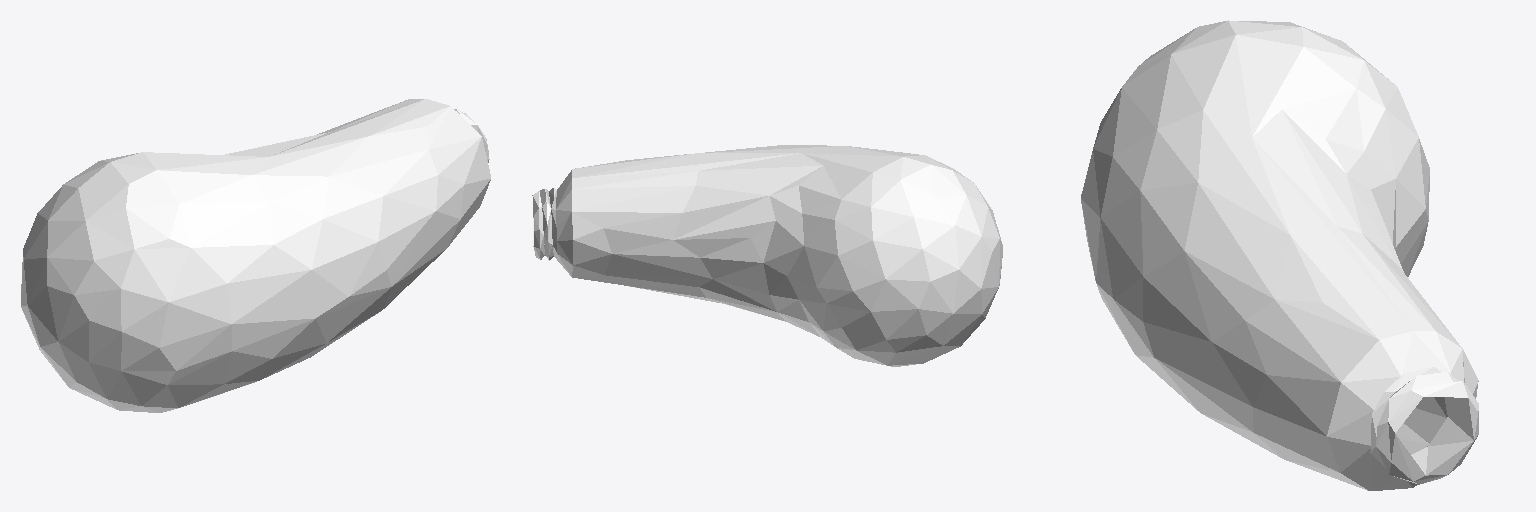
URDF robot description (cube.urdf):
<?xml version="0.0" ?>
<robot name="cube.urdf">
  <link name="baseLink">
    <contact>
      <lateral_friction value="0.3"/>
      <stiffness value="10000.0"/>
    </contact>
    <inertial>
      <origin rpy="0 0 0" xyz="0 0 0"/>
       <mass value="0.1"/>
       <inertia ixx="1" ixy="0" ixz="0" iyy="1" iyz="0" izz="1"/>
    </inertial>
    <visual>
      <origin rpy="0 0 0" xyz="0 0 0"/>
      <geometry>
            <mesh filename="eggplant.stl" scale="0.001 0.001 0.001"/>
      </geometry>
       <material name="white">
        <color rgba="1 1 1 1"/>
      </material>
    </visual>
    <collision>
      <origin rpy="0 0 0" xyz="0 0 0"/>
      <geometry>
	 	<mesh filename="eggplant.stl" scale="0.001 0.001 0.001"/>
      </geometry>
    </collision>
  </link>  
</robot>

--- Facts derived from the render (not from the file) ---
3 views of the same robot in one strip: view 1: azimuth 30°, elevation 25°; view 2: azimuth 150°, elevation 25°; view 3: azimuth 270°, elevation 25° (orthographic).
Robot: cube.urdf — 1 links, 0 joints (none); root link baseLink; default pose: all joints at 0.
Visible links, largest first — view 1: baseLink; view 2: baseLink; view 3: baseLink.
Link boxes in pixels (left/top/right/bottom): baseLink: left=21, top=99, right=490, bottom=412; baseLink: left=532, top=145, right=1002, bottom=366; baseLink: left=1081, top=20, right=1478, bottom=490.
Bounding box of the posed robot: 0.1164 × 0.0604 × 0.0526 m (x, y, z).
Meshes: 1 distinct files referenced, 1 mesh visuals loaded (1 binary STL).